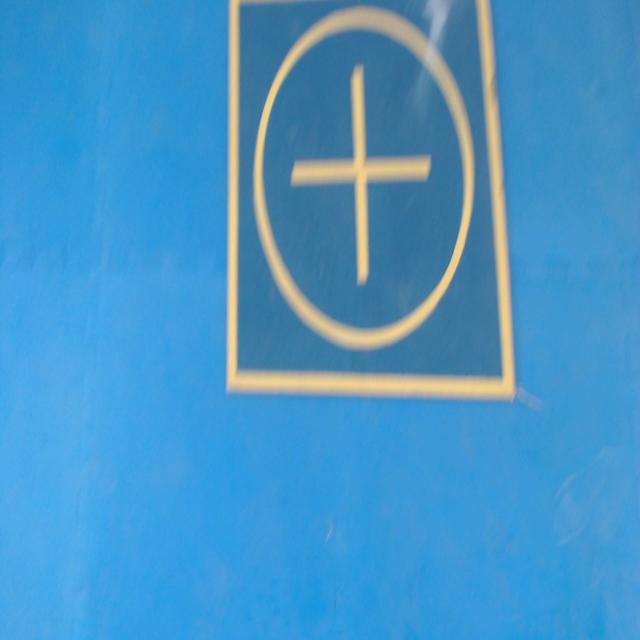base_pouso: (226, 2, 515, 398)
